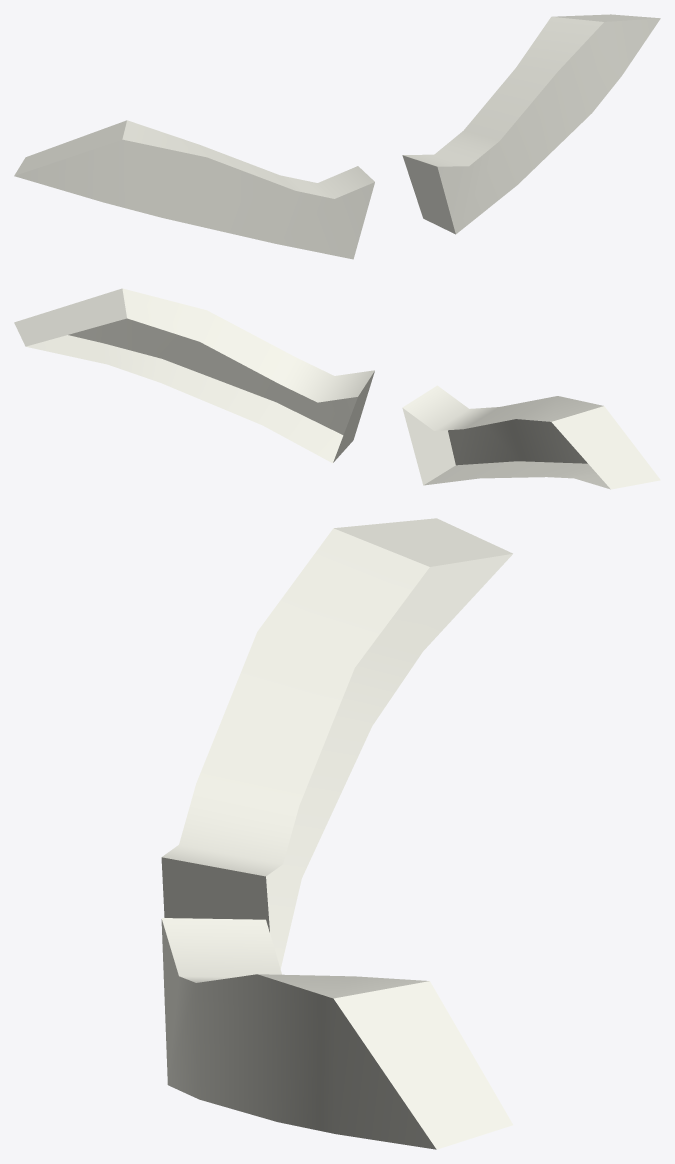
File: Brow_White_13.fbx
The picture shows the model from 3 angles, top to bottom: view 1: azimuth 30°, elevation 25°; view 2: azimuth 150°, elevation 25°; view 3: azimuth 270°, elevation 25°; orthographic projection. The views are drawn at different scales.
Visible parts, largest first — view 1: Brow_White_13; view 2: Brow_White_13; view 3: Brow_White_13.
Boxes of the visible parts, x1,y1,x2,y2 form: Brow_White_13: [14, 14, 660, 259]; Brow_White_13: [14, 288, 660, 489]; Brow_White_13: [161, 518, 512, 1149].
Size of the model in its own units: 40.31 by 8.22 by 9.5.
